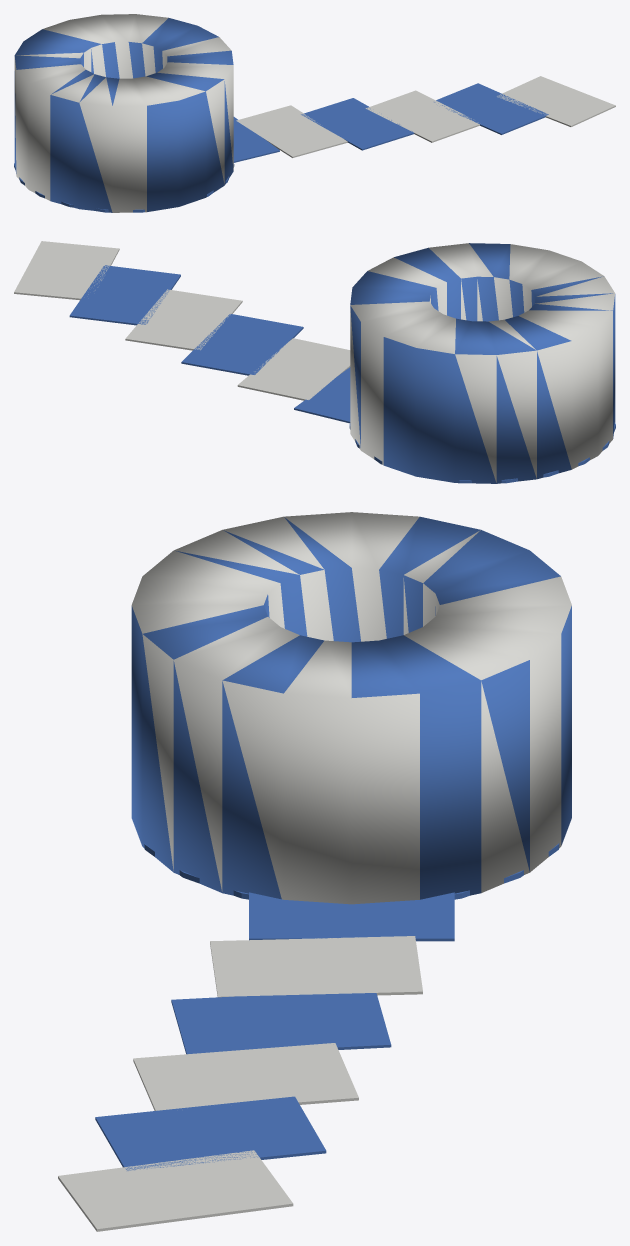
Rendered from police_tape_roll_a.glb.
3 renders of one model, top to bottom at view 1: azimuth 30°, elevation 25°; view 2: azimuth 150°, elevation 25°; view 3: azimuth 270°, elevation 25°, orthographic. The views are drawn at different scales.
Parts seen in each view (by area): view 1: body; view 2: body; view 3: body.
Boxes of the visible parts, x1,y1,x2,y2 form: body: [14, 14, 615, 212]; body: [14, 241, 615, 483]; body: [58, 512, 571, 1231].
Size of the model in its own units: 0.4118 by 0.08 by 0.1751.
